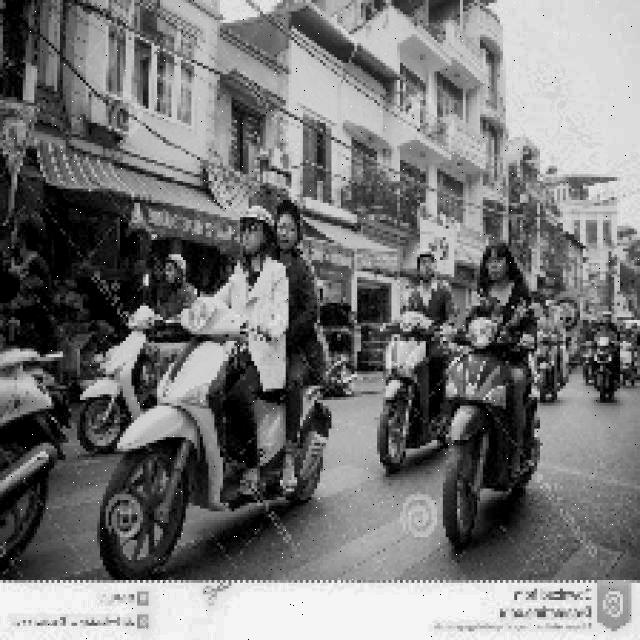Bike: (104, 315, 259, 556), (448, 322, 532, 536), (74, 298, 175, 438), (382, 302, 444, 476)
